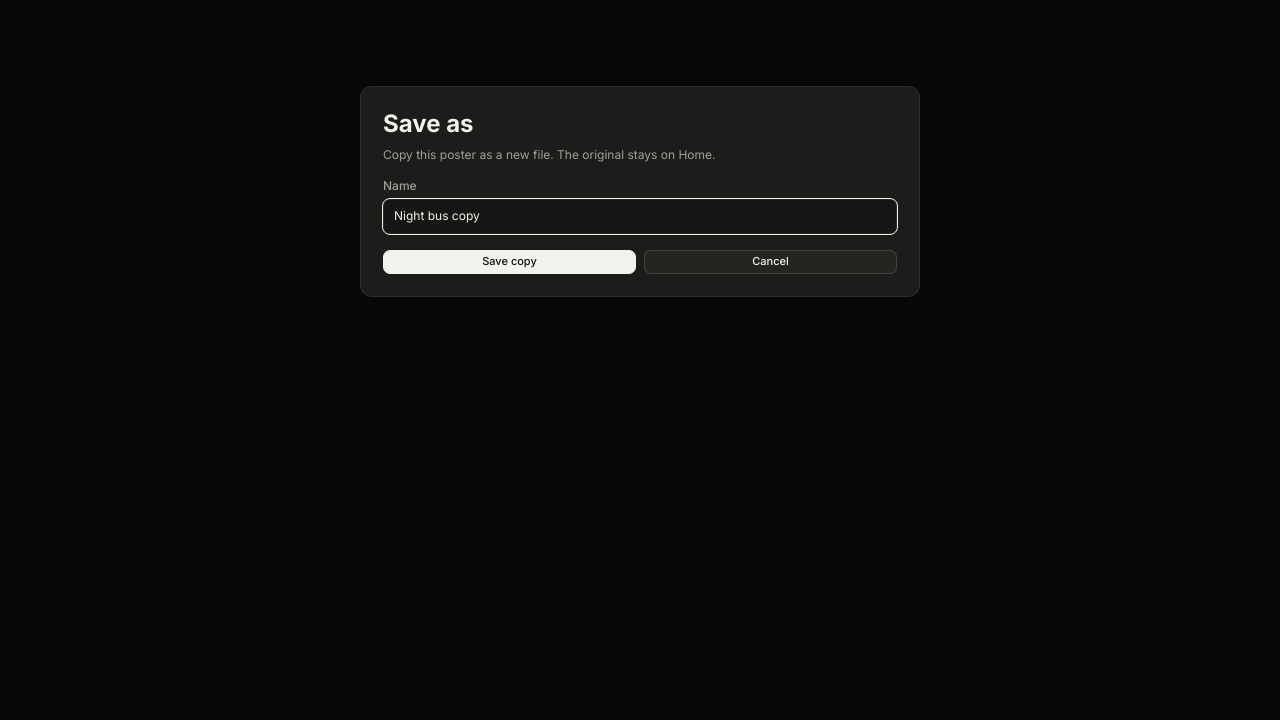
Test case: SaveAsDialog › asks for a name when the field is empty
Clear the field named "Save as name": [640, 216] box [383, 199, 897, 234]
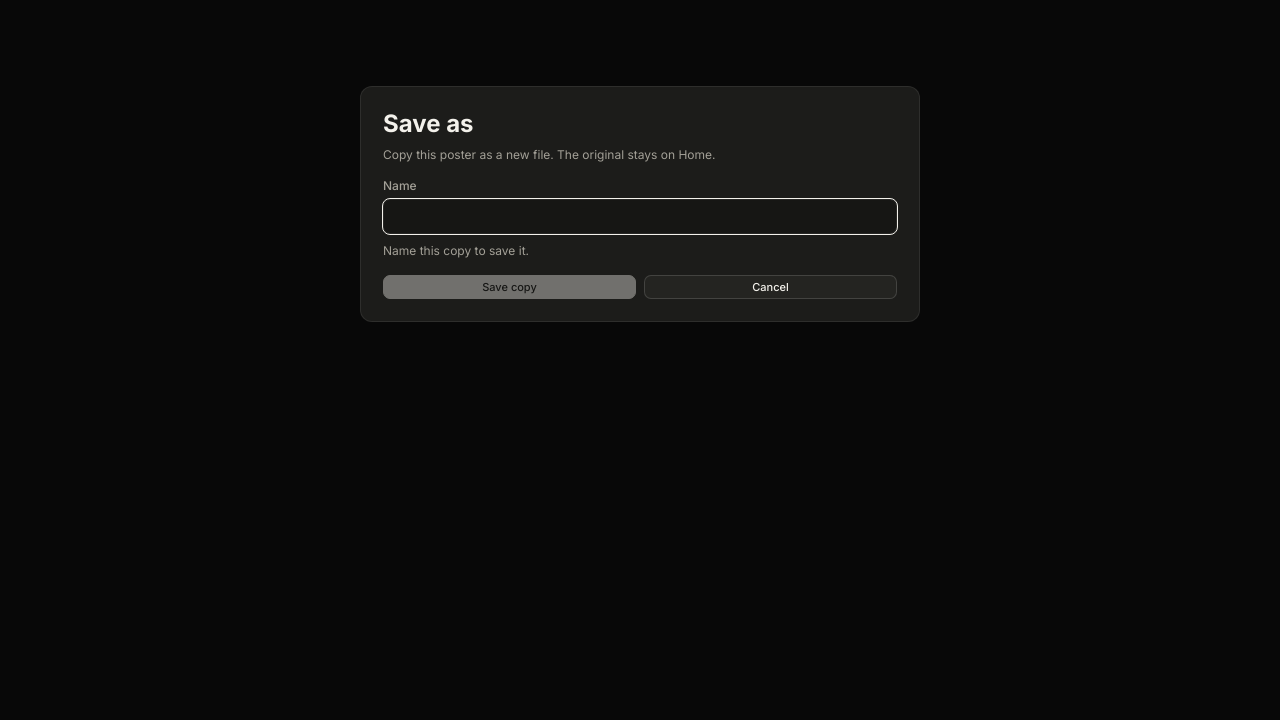
Expected: the message shows "Name this copy", [383, 243, 529, 258]
Expected: the button "Save copy" is disabled, [383, 275, 636, 299]
